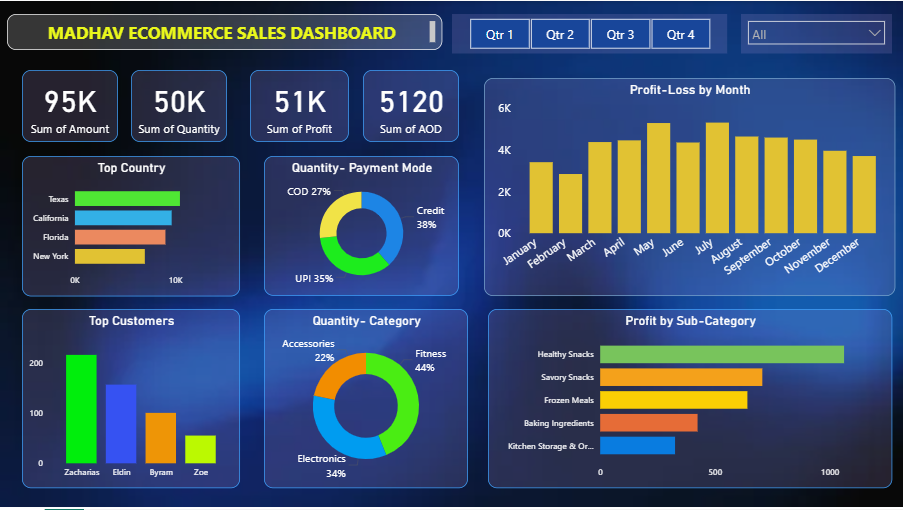

The page's visual inventory and layout, read from the dashboard file:
{"tool":"powerbi","page":{"name":"Page 1","canvas":[1280,720],"ordinal":0},"visuals":[{"type":"textbox","box":[10,18.6,617.1,51.4],"z":0},{"type":"columnChart","title":"Profit-Loss by Month","fields":{"Category":["Orders.Order date.Variation.Date Hierarchy.Month"],"Y":["OrderList.Profit"]},"box":[686,109.1,582.5,309],"z":1000},{"type":"barChart","title":"Profit by Sub-Category","fields":{"Category":["OrderList.Sub-category"],"Y":["OrderList.Profit"]},"box":[691.7,436.5,572.6,253.7],"z":2000},{"type":"donutChart","title":"Quantity- Category","fields":{"Category":["OrderList.Category"],"Y":["OrderList.Quantity"]},"box":[374.2,436.5,289.1,253.7],"z":3000},{"type":"donutChart","title":"Quantity- Payment Mode","fields":{"Y":["OrderList.Quantity"],"Category":["OrderList.PaymentMode"]},"box":[374.2,219.7,276.4,198.4],"z":4000},{"type":"card","fields":{"Values":["OrderList.Amount"]},"box":[31.2,97.8,136.1,102],"z":5000},{"type":"card","fields":{"Values":["OrderList.Quantity"]},"box":[185.7,97.8,136.1,102],"z":6000},{"type":"card","fields":{"Values":["OrderList.Profit"]},"box":[354.3,97.8,140.3,102],"z":7000},{"type":"card","fields":{"Values":["OrderList.AOD"]},"box":[514.5,97.8,136.1,102],"z":8000},{"type":"barChart","title":"Top Country","fields":{"Y":["OrderList.Amount"],"Category":["Orders.state"]},"box":[31.4,220,308.6,198.6],"z":9000},{"type":"columnChart","title":"Top Customers","fields":{"Category":["Orders.customer name"],"Y":["OrderList.Amount"]},"box":[31.2,436.5,309,253.7],"z":10000},{"type":"slicer","fields":{"Values":["Orders.Order date.Variation.Date Hierarchy.Quarter"]},"box":[640,18.6,390,55.7],"z":11000},{"type":"slicer","fields":{"Values":["Orders.state"]},"box":[1050,18.6,214.3,55.7],"z":12000}]}

Visuals, with their boxes in screenshot pixels (x1, y1, x2, y2), scaled from the page's 1280x720 canvas onto the 903x510 screenshot:
textbox: [left=7, top=13, right=442, bottom=50]
"Profit-Loss by Month" columnChart: [left=484, top=77, right=895, bottom=296]
"Profit by Sub-Category" barChart: [left=488, top=309, right=892, bottom=489]
"Quantity- Category" donutChart: [left=264, top=309, right=468, bottom=489]
"Quantity- Payment Mode" donutChart: [left=264, top=156, right=459, bottom=296]
card - OrderList.Amount: [left=22, top=69, right=118, bottom=142]
card - OrderList.Quantity: [left=131, top=69, right=227, bottom=142]
card - OrderList.Profit: [left=250, top=69, right=349, bottom=142]
card - OrderList.AOD: [left=363, top=69, right=459, bottom=142]
"Top Country" barChart: [left=22, top=156, right=240, bottom=297]
"Top Customers" columnChart: [left=22, top=309, right=240, bottom=489]
slicer - Orders.Order date.Variation.Date Hierarchy.Quarter: [left=452, top=13, right=727, bottom=53]
slicer - Orders.state: [left=741, top=13, right=892, bottom=53]
